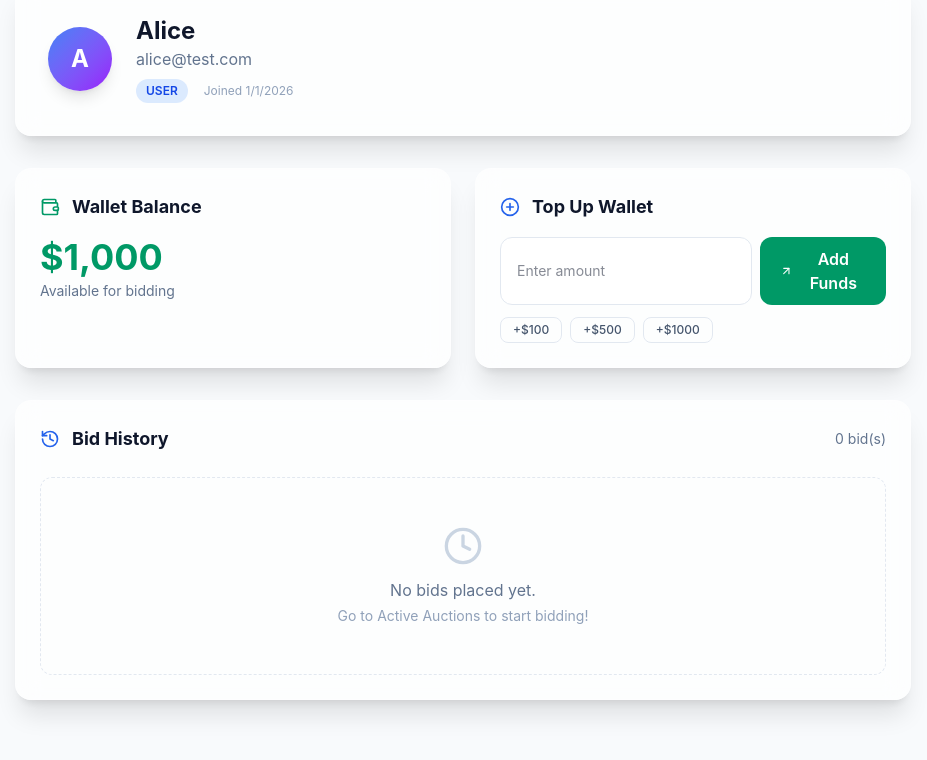
Test: Profile Page › top up with valid amount shows success
The image size is (927, 760).
expect the heading "Alice" is shown: met, box [136,16,195,45]
Type "500" into the number field with placeholder "Enter amount".
click(626, 271); type("500")  # box [500,237,752,305]
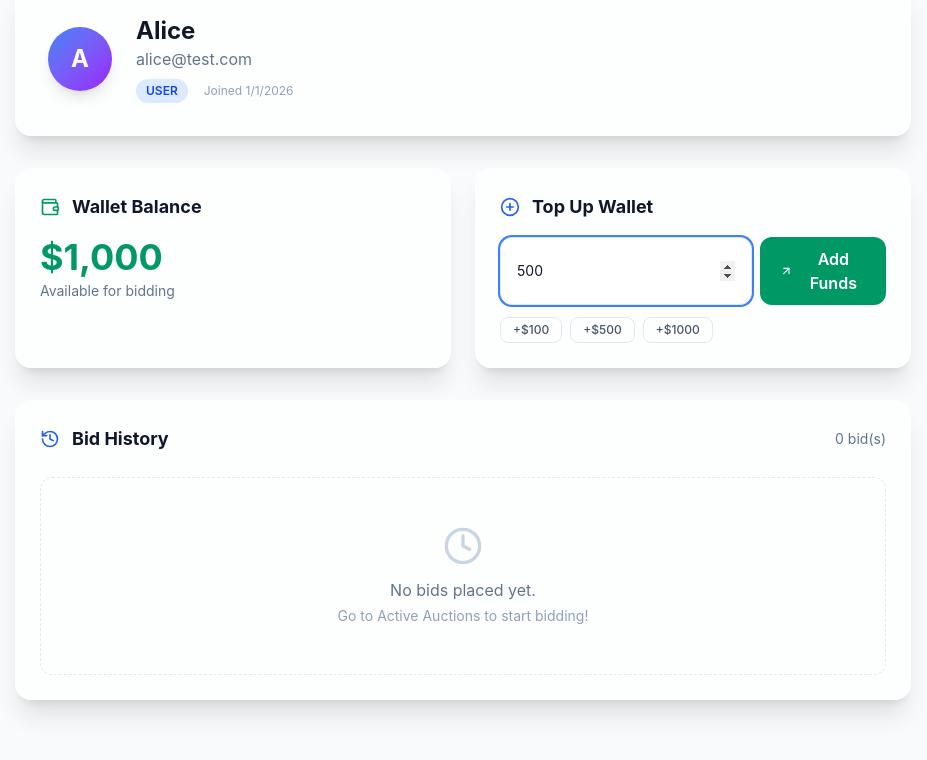
Click the button "Add Funds".
click(823, 271)  # box [760,237,886,305]
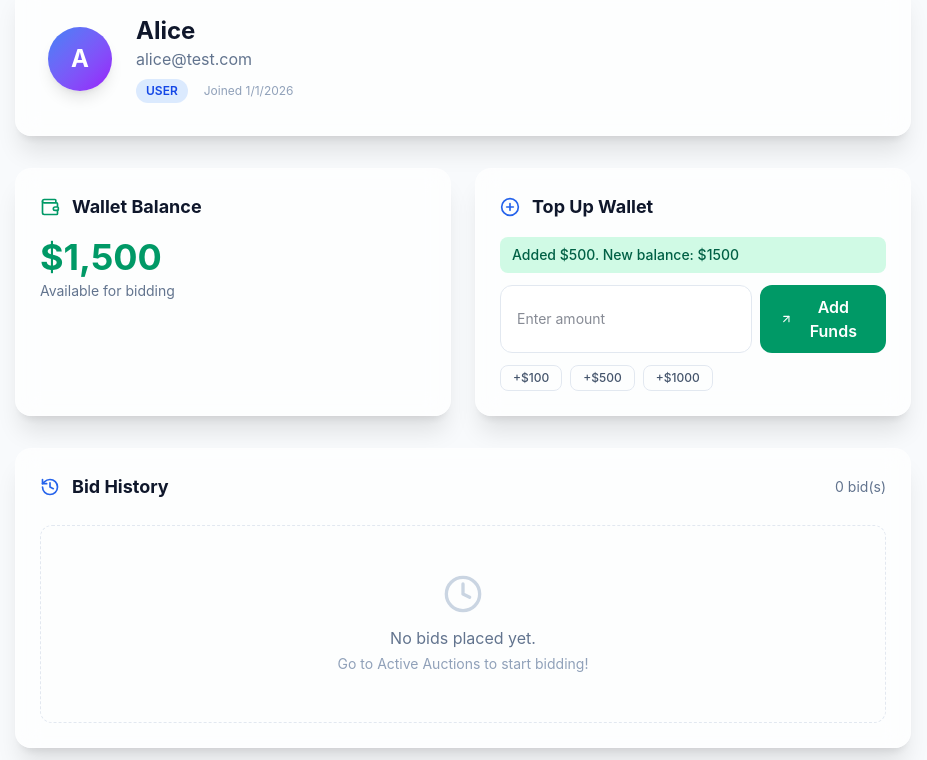
expect the text "Added $500. New balance: $1500" is shown: met, box [500,237,886,273]
